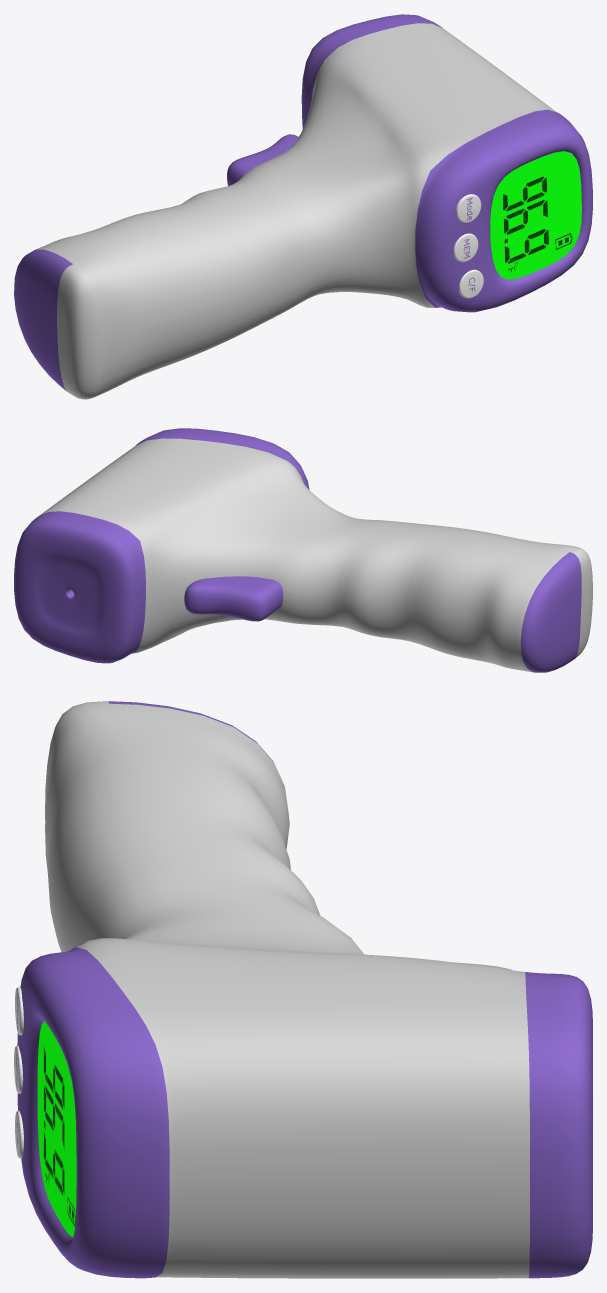
File: termometro.glb
3 views of the same model, one above another, from view 1: azimuth 30°, elevation 25°; view 2: azimuth 150°, elevation 25°; view 3: azimuth 270°, elevation 25° (orthographic). The views are drawn at different scales.
Parts seen in each view (by area): view 1: Cube.003_White_0, Cube.003_Purple_0, Cube.002_Screen_0, Cylinder.011_Buttons_0, Cube.001_Purple_0; view 2: Cube.003_White_0, Cube.003_Purple_0, Cube.001_Purple_0; view 3: Cube.003_White_0, Cube.003_Purple_0, Cube.002_Screen_0, Cylinder.011_Buttons_0.
Boxes of the visible parts, x1,y1,x2,y2 form: Cube.003_White_0: [36, 23, 557, 399]; Cube.003_Purple_0: [14, 14, 592, 391]; Cube.002_Screen_0: [490, 151, 581, 279]; Cylinder.011_Buttons_0: [453, 194, 483, 298]; Cube.001_Purple_0: [227, 134, 298, 185]; Cube.003_White_0: [39, 438, 592, 672]; Cube.003_Purple_0: [14, 428, 581, 672]; Cube.001_Purple_0: [184, 576, 283, 621]; Cube.003_White_0: [45, 701, 529, 1278]; Cube.003_Purple_0: [17, 701, 592, 1278]; Cube.002_Screen_0: [37, 1021, 76, 1237]; Cylinder.011_Buttons_0: [14, 987, 23, 1158].
Bounding box in the file's own units: 0.2203 × 0.0637 × 0.1294.
Materials: 4 (2 with a texture image).
